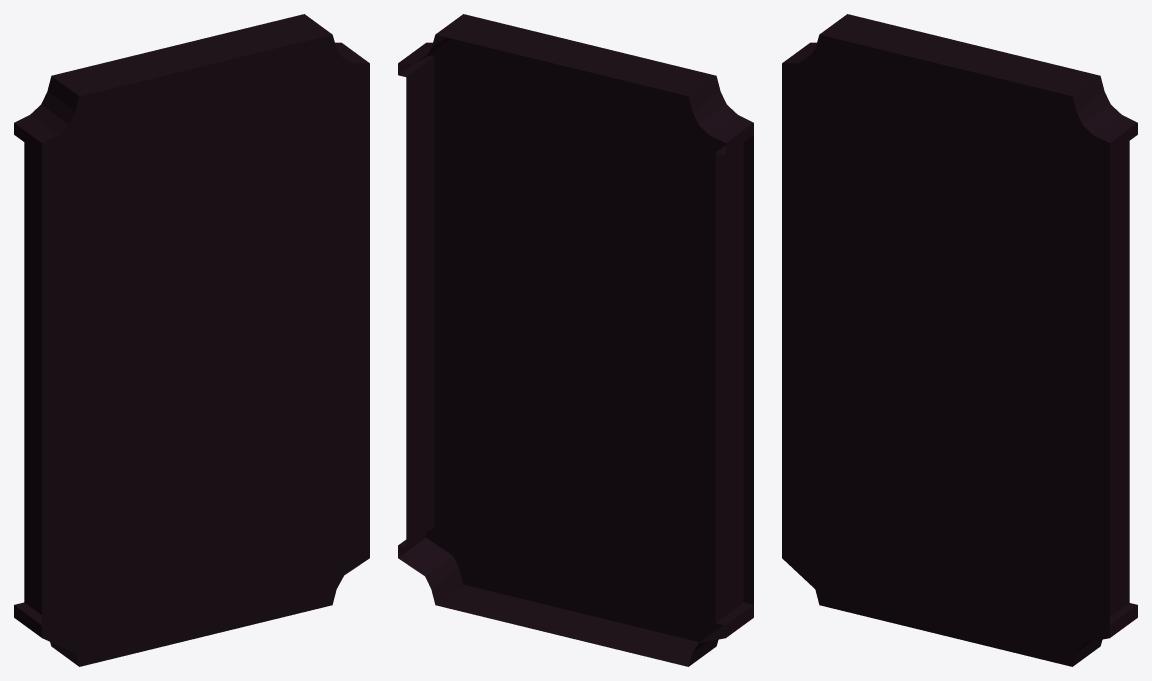
Rendered from PushblockShadow.fbx.
The picture shows the model from 3 angles, left to right: view 1: azimuth 30°, elevation 25°; view 2: azimuth 150°, elevation 25°; view 3: azimuth 330°, elevation 25°; orthographic projection.
Parts seen in each view (by area): view 1: Shadow; view 2: Shadow; view 3: Shadow.
Boxes of the visible parts, bbox=[...] form: Shadow: bbox=[14, 14, 369, 666]; Shadow: bbox=[398, 14, 753, 666]; Shadow: bbox=[782, 14, 1137, 666].
Bounding box in the file's own units: 322 × 535 × 47.73.
